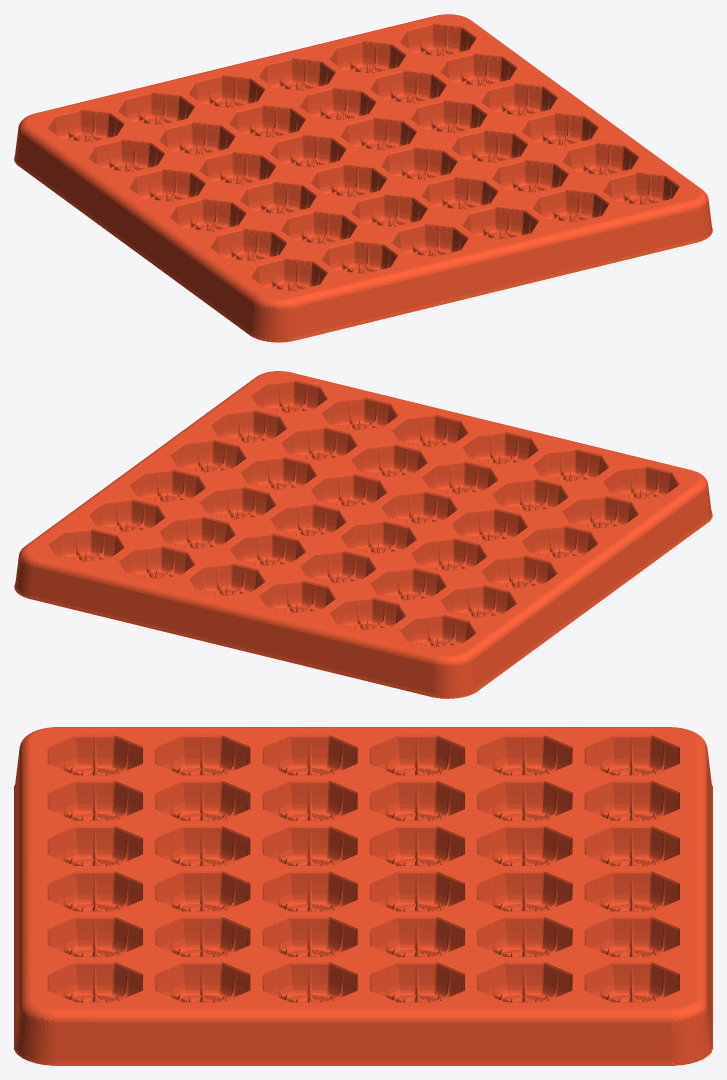
File: mold.glb
3 renders of one model, top to bottom at view 1: azimuth 30°, elevation 25°; view 2: azimuth 150°, elevation 25°; view 3: azimuth 270°, elevation 25°, orthographic. The views are drawn at different scales.
Visible parts, largest first — view 1: geometry_0; view 2: geometry_0; view 3: geometry_0.
Part boxes in pixels (<box>): geometry_0: <box>14,14,712,342</box>; geometry_0: <box>14,371,712,698</box>; geometry_0: <box>14,727,712,1065</box>.
Size of the model in its own units: 0.1447 by 0.0114 by 0.1447.
